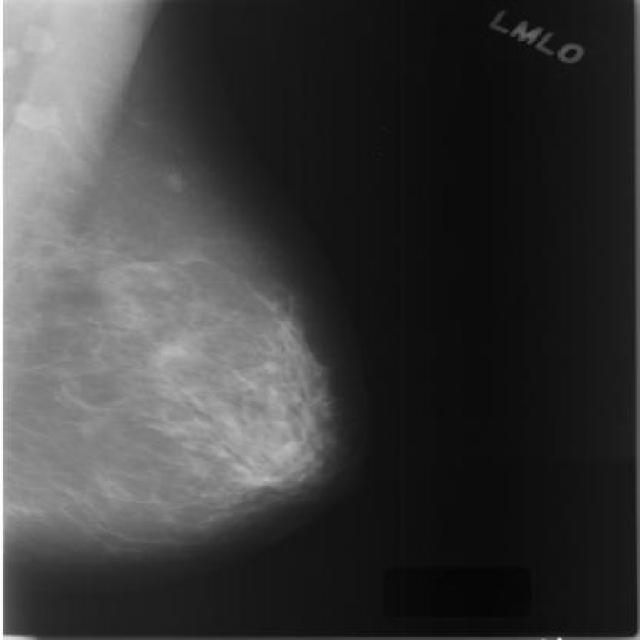tumor: (93, 237, 360, 482)
